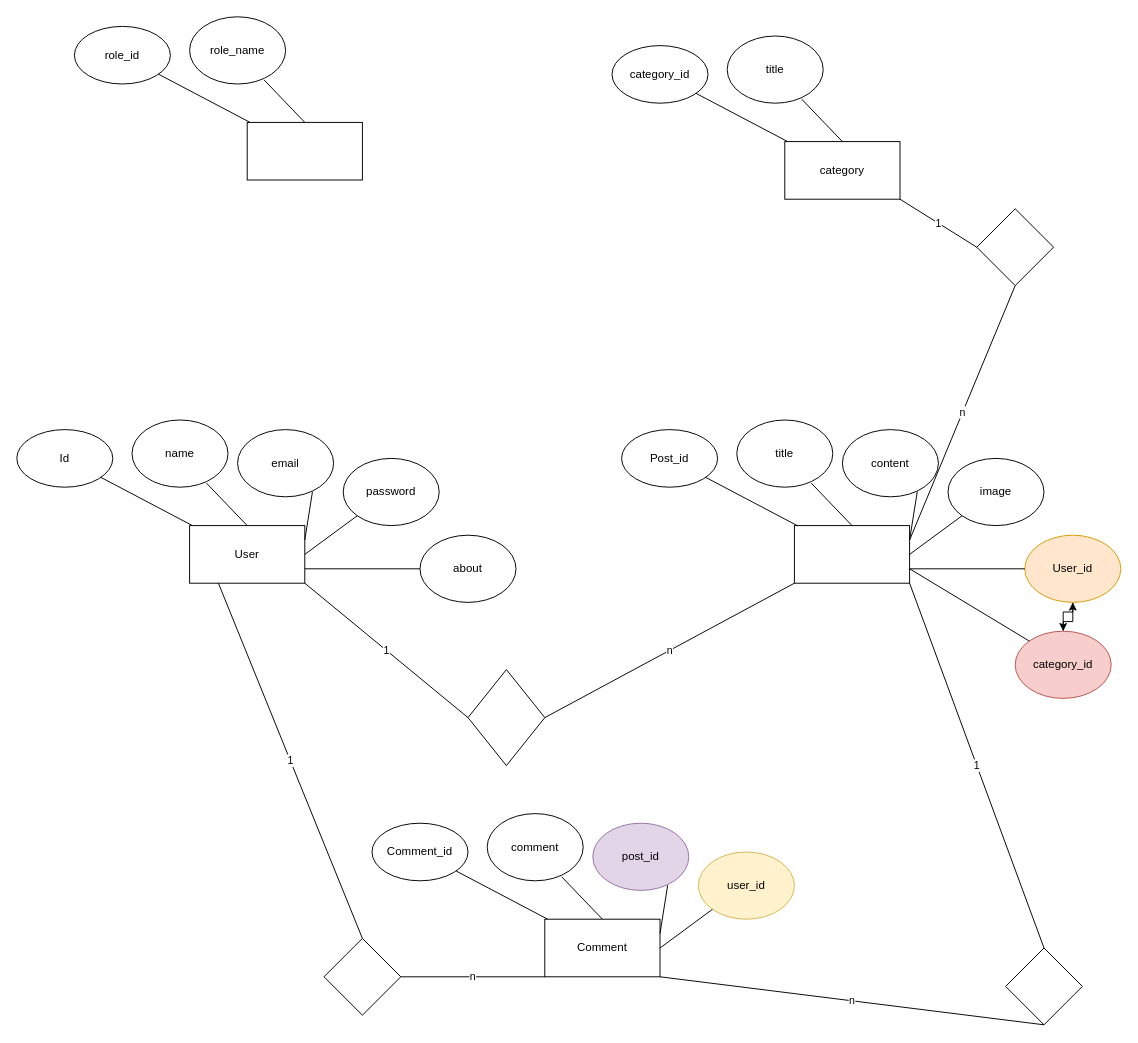
This 1138x1043 diagram has some shape labels left out. Each missing label, with the box of its shape:
Can create: (467, 669, 545, 766)
contain: (976, 208, 1054, 286)
has: (323, 937, 401, 1015)
have: (1005, 947, 1082, 1025)
Post: (793, 525, 910, 583)
Role: (246, 121, 362, 180)
